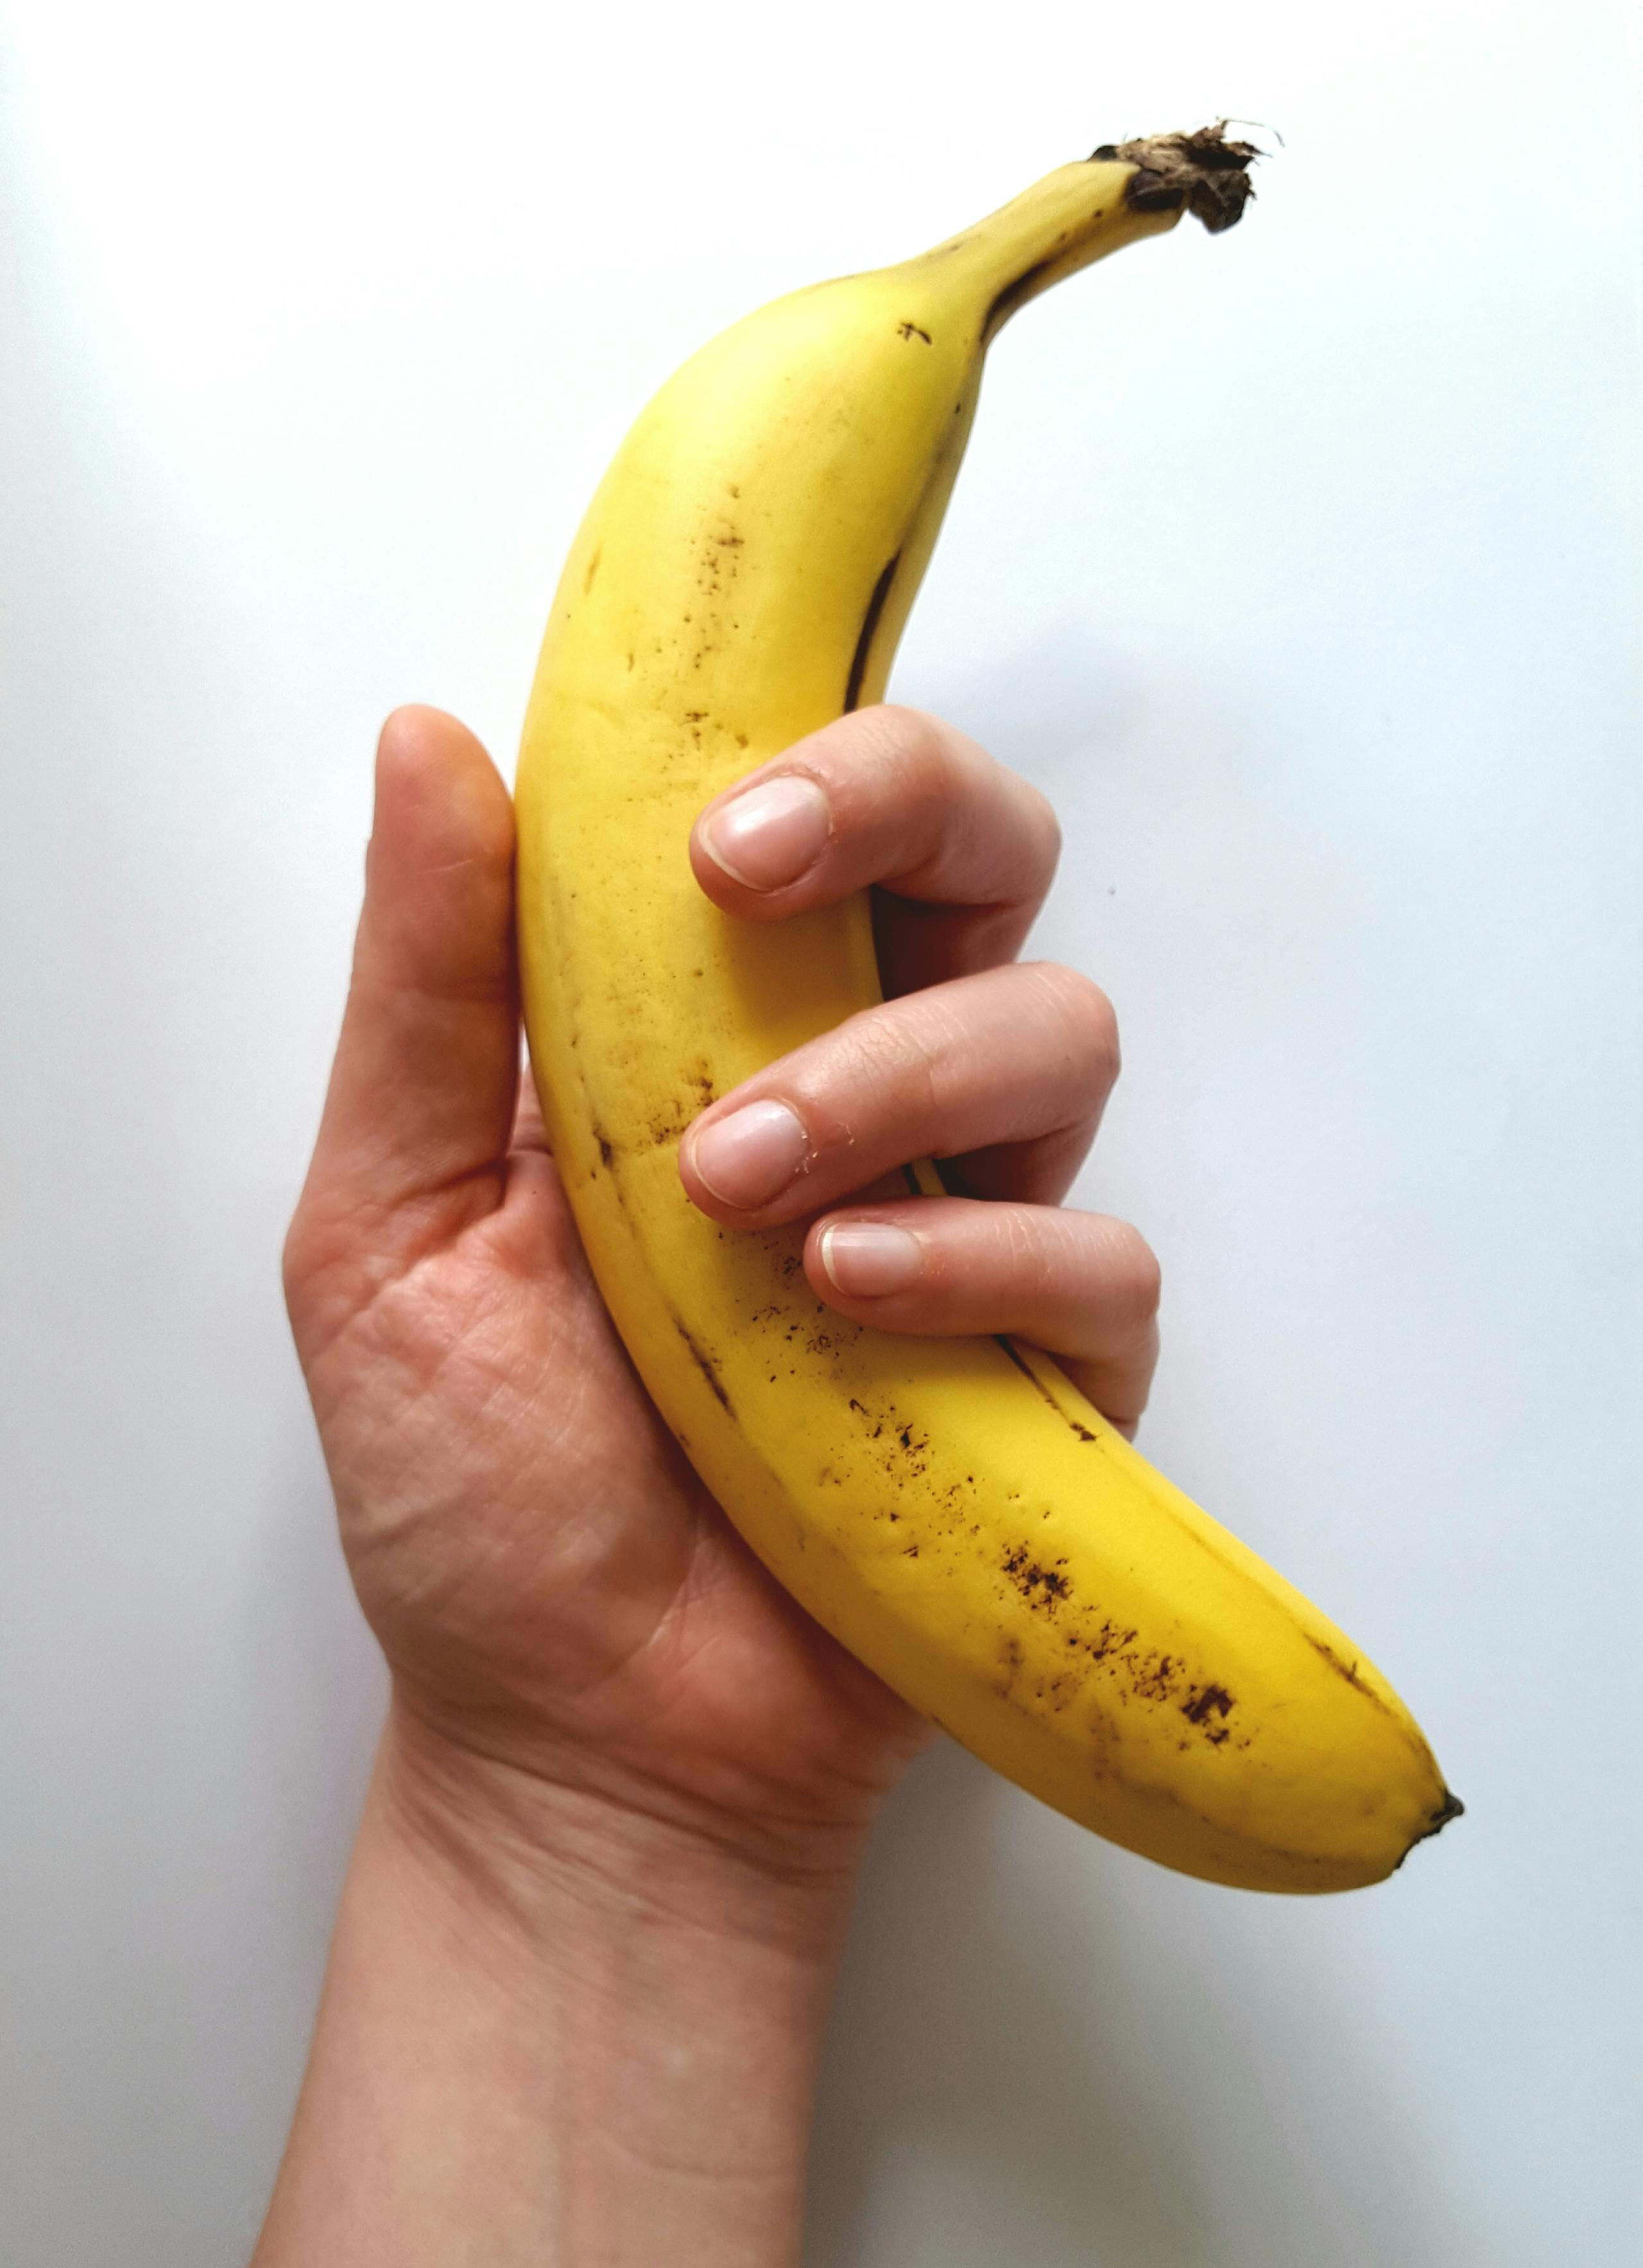chipspack: (504, 115, 1475, 1896)
